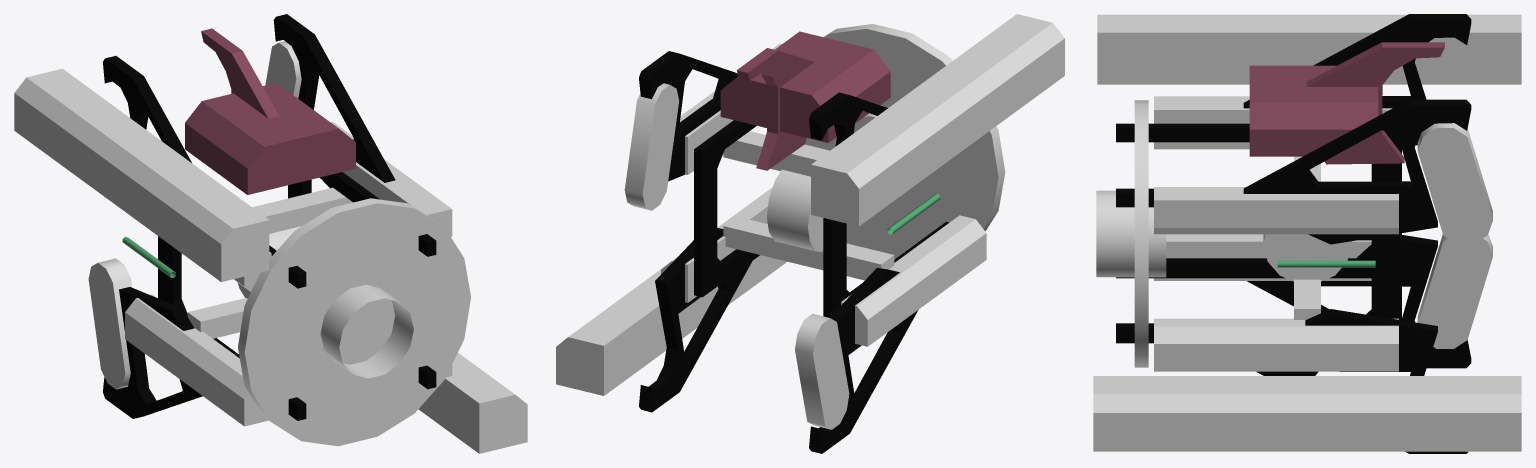
The model's file is mech 3 lod1.FBX.
3 renders of one model, left to right at view 1: azimuth 30°, elevation 25°; view 2: azimuth 150°, elevation 25°; view 3: azimuth 270°, elevation 25°, orthographic. The views are drawn at different scales.
Visible parts, largest first — view 1: Object071; view 2: Object071; view 3: Object071.
Boxes of the visible parts, x1,y1,x2,y2 form: Object071: (14,14,527,453); Object071: (556,14,1064,453); Object071: (1093,14,1521,453).
Size of the model in its own units: 2.53 by 2.81 by 3.
